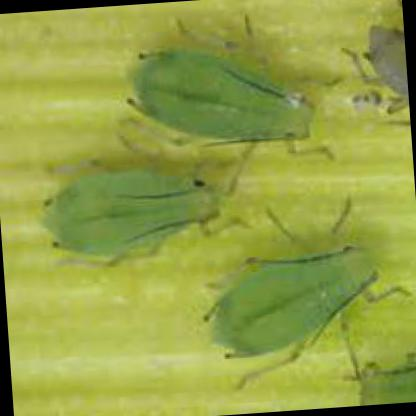schizaphis graminum: (210, 244, 396, 357), (127, 46, 314, 146), (36, 171, 225, 258)
